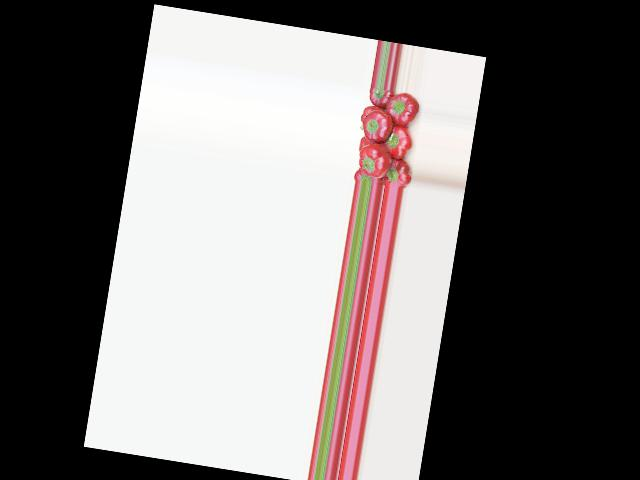bell_pepper: (357, 135, 372, 150)
